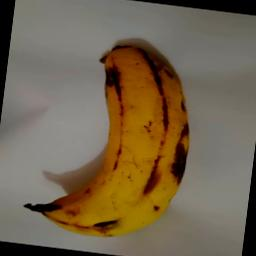Banana Unripe: (16, 32, 203, 248)
